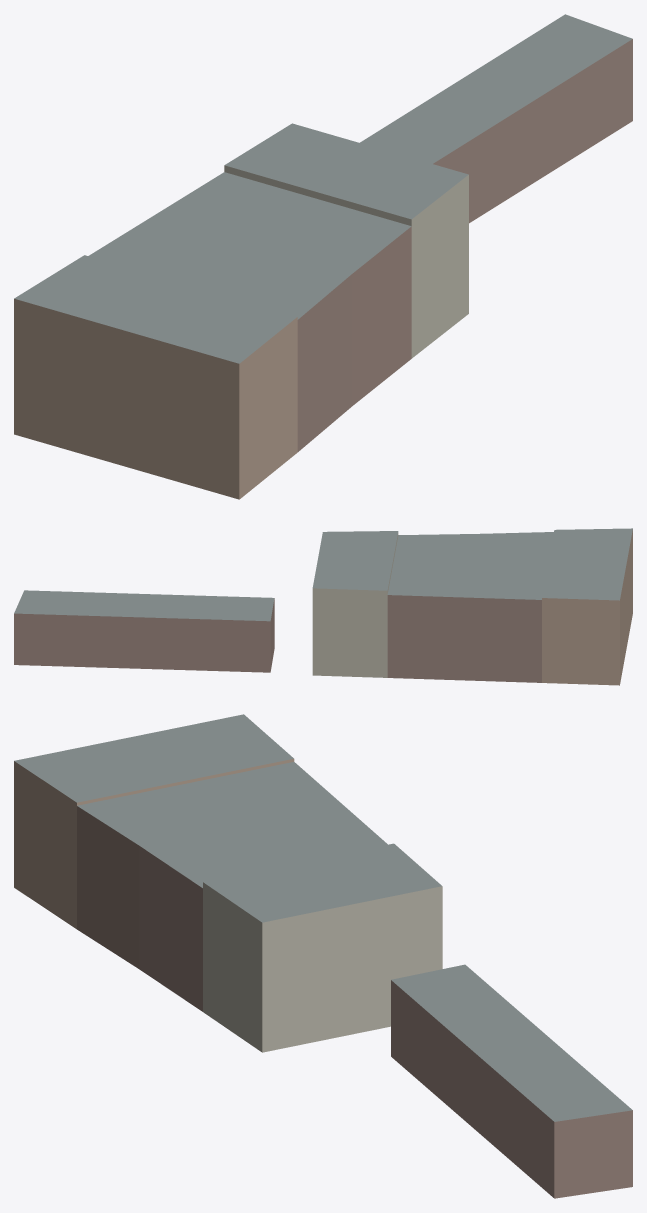
The model's file is context--1-0.gltf.
The picture shows the model from 3 angles, top to bottom: view 1: azimuth 30°, elevation 25°; view 2: azimuth 150°, elevation 25°; view 3: azimuth 270°, elevation 25°; orthographic projection. The views are drawn at different scales.
Visible parts, largest first — view 1: context--1-0; view 2: context--1-0; view 3: context--1-0.
Part boxes in pixels (bbox=[...]): context--1-0: bbox=[14, 14, 632, 499]; context--1-0: bbox=[14, 528, 632, 685]; context--1-0: bbox=[14, 714, 632, 1198].
Bounding box in the file's own units: 74.17 × 12.57 × 54.25.
